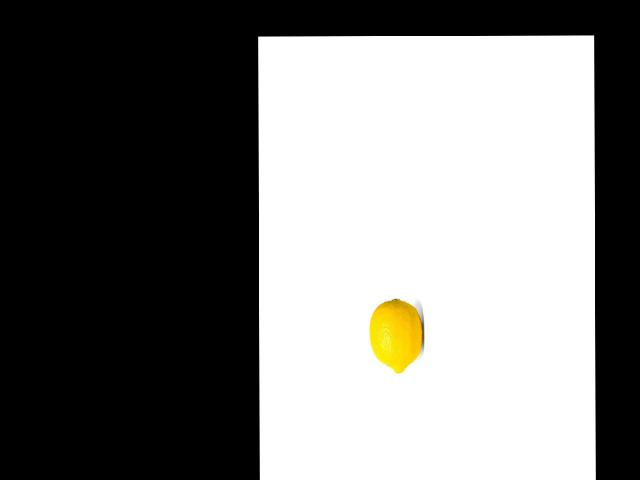lemon: (370, 295, 422, 376)
